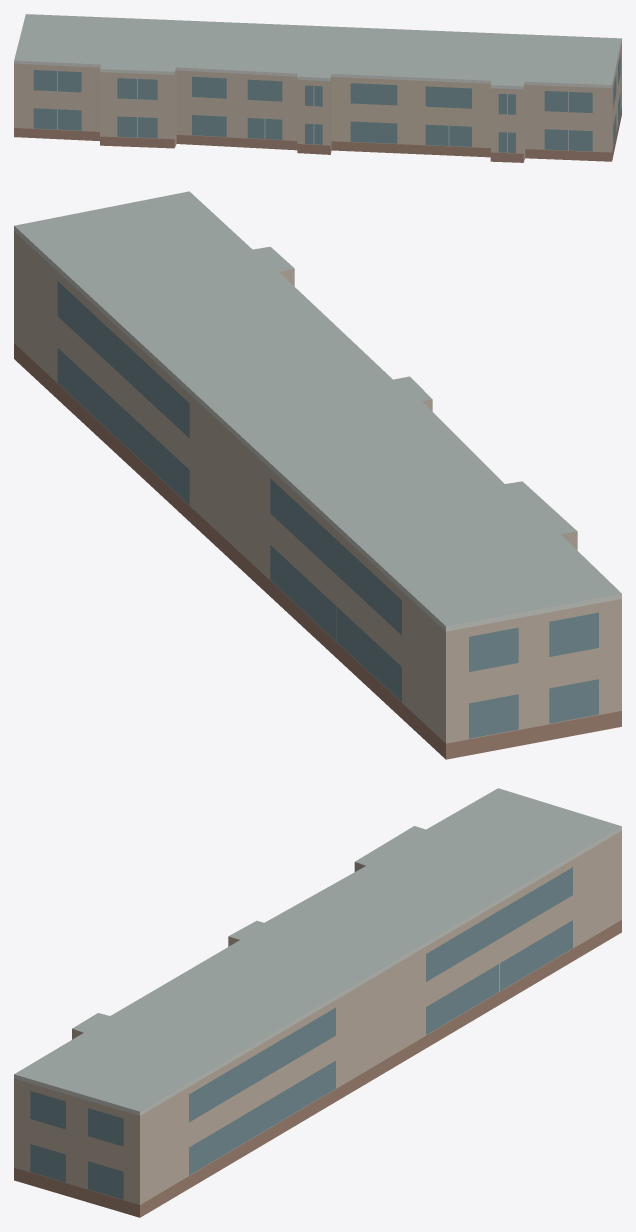
File: survey-upis-32554325.glb
The picture shows the model from 3 angles, top to bottom: view 1: azimuth 30°, elevation 25°; view 2: azimuth 150°, elevation 25°; view 3: azimuth 270°, elevation 25°; orthographic projection. The views are drawn at different scales.
Visible parts, largest first — view 1: survey-upis-32554325.tmp; view 2: survey-upis-32554325.tmp; view 3: survey-upis-32554325.tmp.
Part boxes in pixels (left/top/right/bottom): survey-upis-32554325.tmp: left=14, top=14, right=621, bottom=162; survey-upis-32554325.tmp: left=14, top=191, right=621, bottom=759; survey-upis-32554325.tmp: left=14, top=788, right=621, bottom=1217.
Size of the model in its own units: 39.9 by 6.1 by 31.68.
